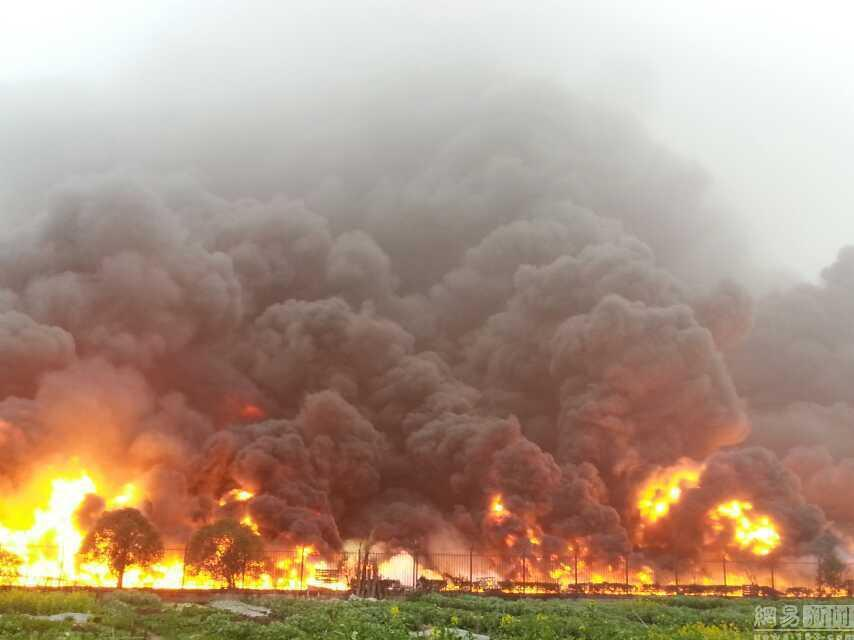fire: (493, 478, 813, 591), (7, 473, 313, 591)
